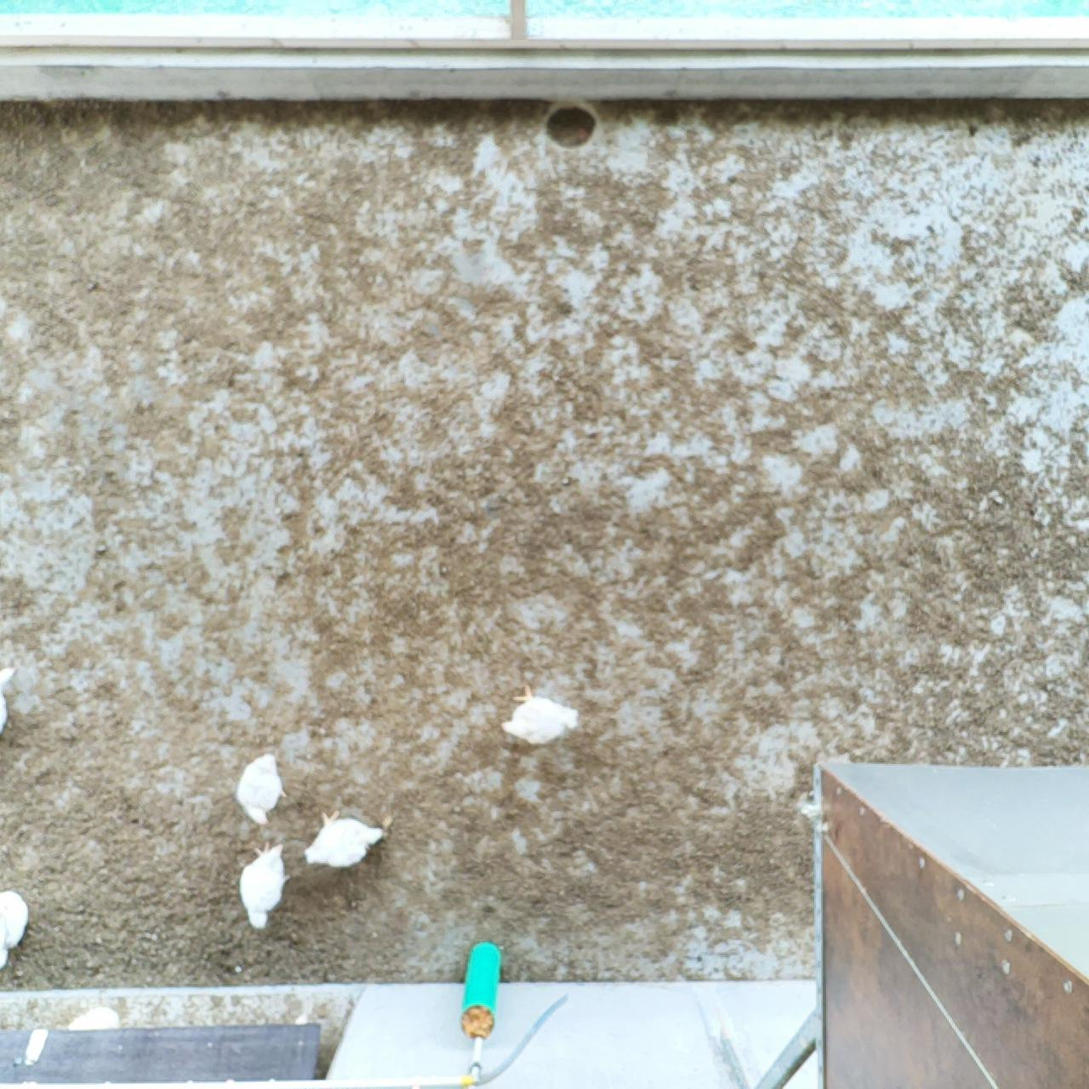chicken: (302, 802, 394, 873), (496, 682, 583, 752), (238, 837, 295, 935), (232, 752, 290, 829), (0, 887, 31, 973)
